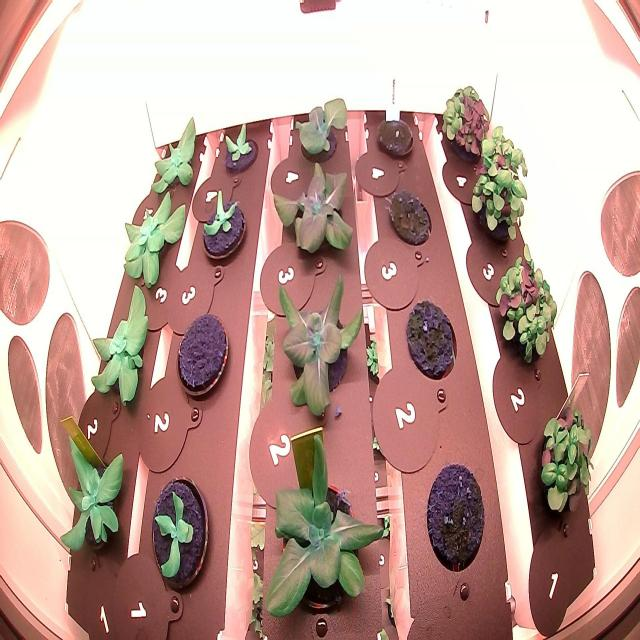pod: (420, 455, 492, 579), (170, 304, 237, 407), (403, 294, 464, 386), (384, 185, 434, 257), (371, 108, 420, 166)
young: (249, 419, 392, 636), (266, 268, 372, 432), (270, 145, 362, 270), (78, 283, 160, 416), (54, 428, 133, 566), (144, 466, 220, 604), (116, 182, 191, 301), (284, 86, 353, 176), (143, 109, 209, 203), (193, 181, 253, 277), (213, 110, 264, 182)
